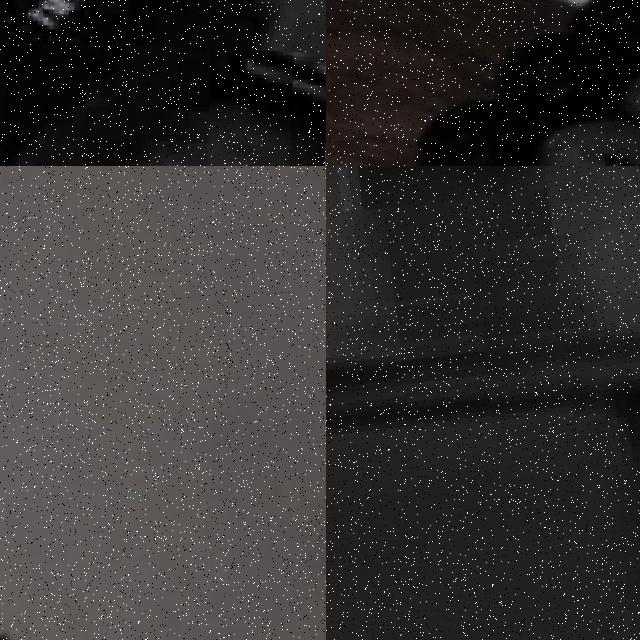drone: (0, 166, 326, 640), (0, 0, 326, 166)
